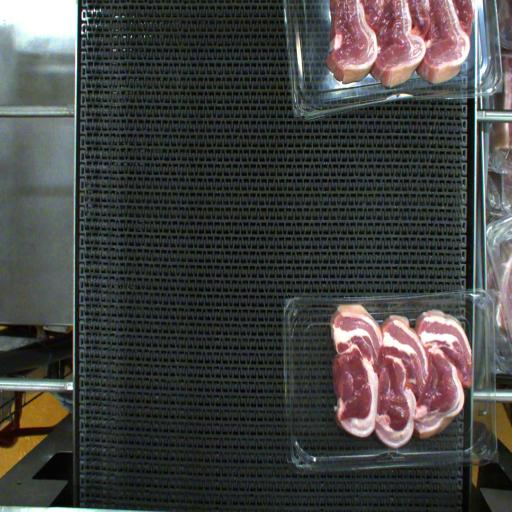packaging-error: (330, 289, 362, 318)
